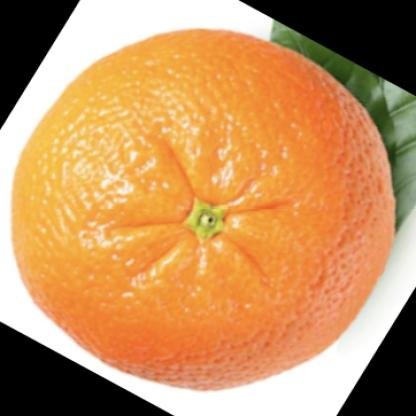fresh: (11, 29, 395, 394)
